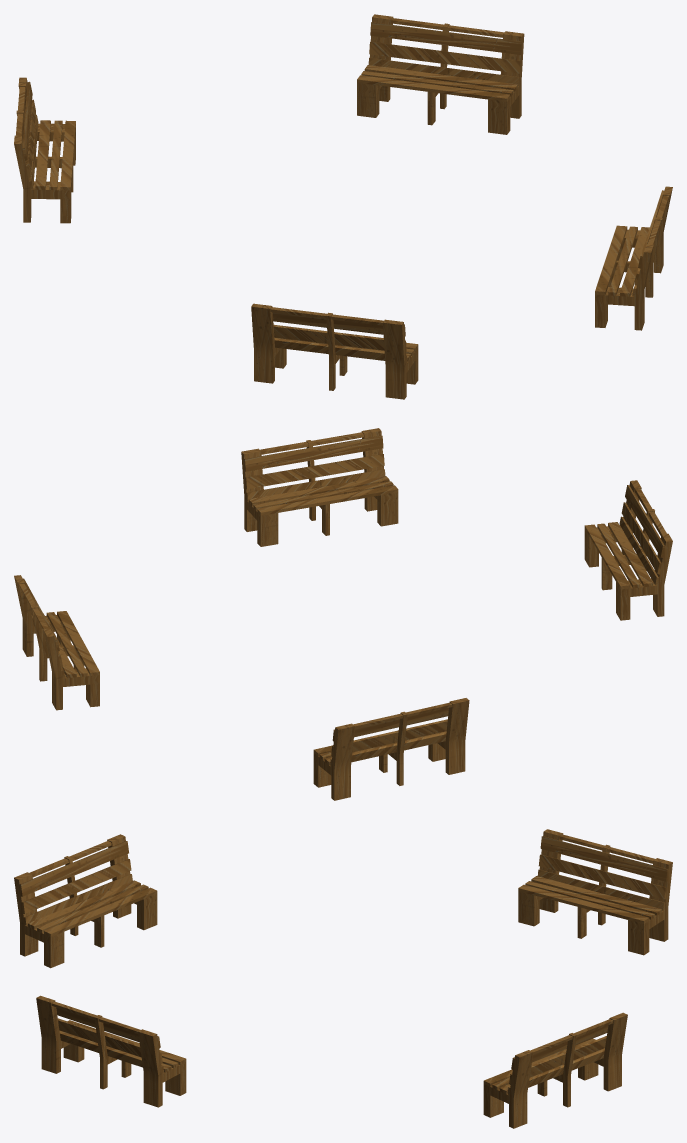
Rendered from bancas new.fbx.
3 views of the same model, one above another, from view 1: azimuth 30°, elevation 25°; view 2: azimuth 150°, elevation 25°; view 3: azimuth 270°, elevation 25° (orthographic). The views are drawn at different scales.
Visible parts, largest first — view 1: Banca3, Banca1, Banca2, Banca4; view 2: Banca4, Banca2, Banca1, Banca3; view 3: Banca2, Banca1, Banca4, Banca3.
Boxes of the visible parts, x1=… form: Banca3: x1=357, y1=14, x2=524, y2=134; Banca1: x1=251, y1=303, x2=418, y2=399; Banca2: x1=14, y1=77, x2=75, y2=223; Banca4: x1=595, y1=186, x2=672, y2=330; Banca4: x1=241, y1=428, x2=398, y2=546; Banca2: x1=313, y1=698, x2=469, y2=800; Banca1: x1=584, y1=480, x2=672, y2=620; Banca3: x1=14, y1=575, x2=99, y2=710; Banca2: x1=518, y1=829, x2=672, y2=955; Banca1: x1=14, y1=834, x2=157, y2=968; Banca4: x1=36, y1=995, x2=186, y2=1107; Banca3: x1=483, y1=1012, x2=627, y2=1128.
Bounding box in the file's own units: 6.98 × 1.06 × 8.51.
